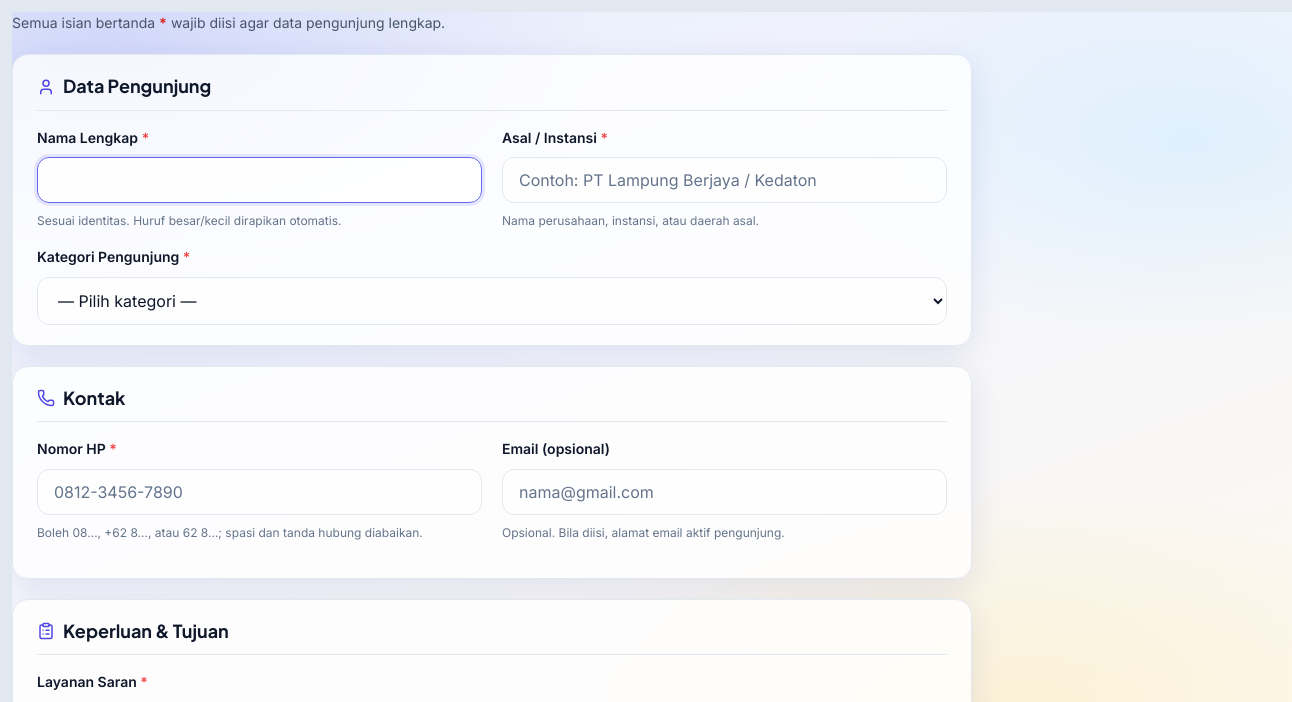
Test: Panel Walk-in (/admin/fo/registrasi?tab=walkin, pendaftaran walk-in oleh FO) › validasi per isian (saat blur, bukan sebelum disentuh) › email: format salah dan domain placeholder ditolak
Expected: the field labelled "Nama Lengkap" is shown, top-left (37, 157), bottom-right (482, 203)
In the field labelled "Email (opsional)": (724,492) top-left (502, 469), bottom-right (947, 515), type "bukan-email"
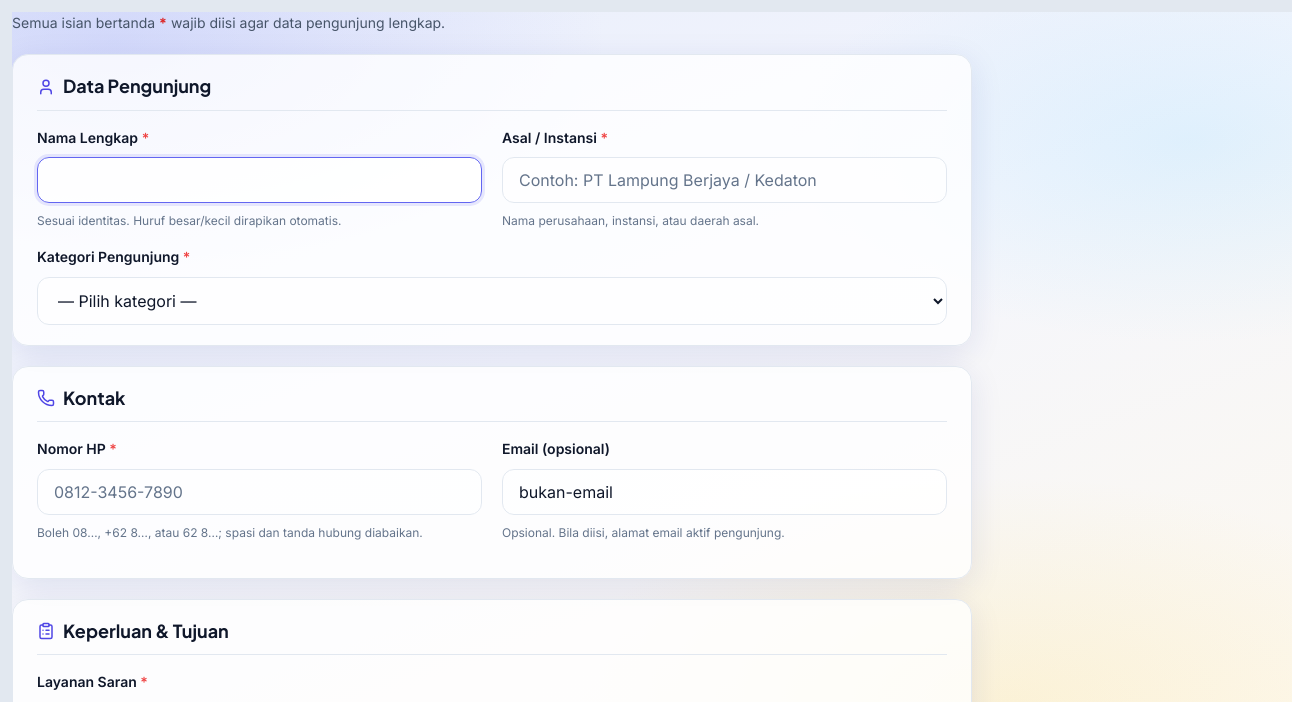
Leave the field labelled "Email (opsional)", box top-left (502, 469), bottom-right (947, 515)
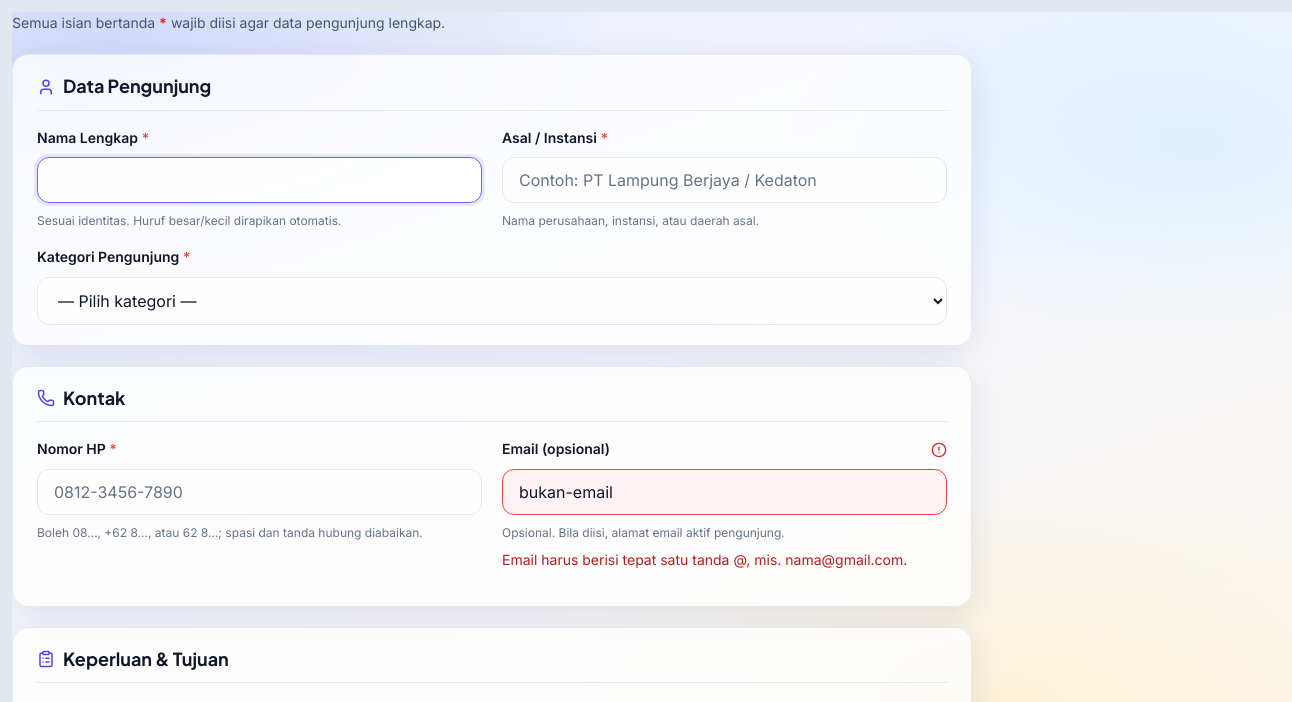
Result: the text "Email harus berisi tepat satu tanda @, mis. nama@gmail.com." is shown at top-left (502, 550), bottom-right (947, 570)
Replace the text in the field labelled "Email (opsional)" with "budi@contoh.com": (724,492) top-left (502, 469), bottom-right (947, 515)
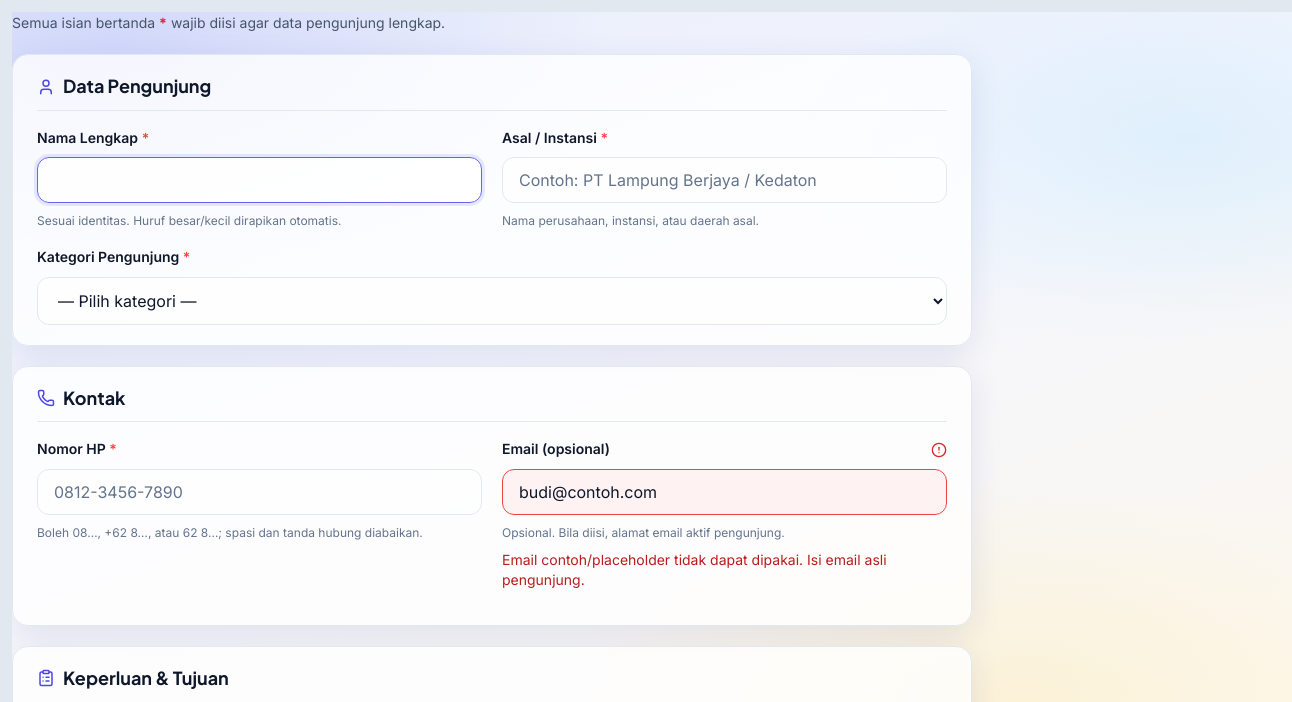
Result: the text "placeholder" is shown at top-left (502, 551), bottom-right (887, 588)
